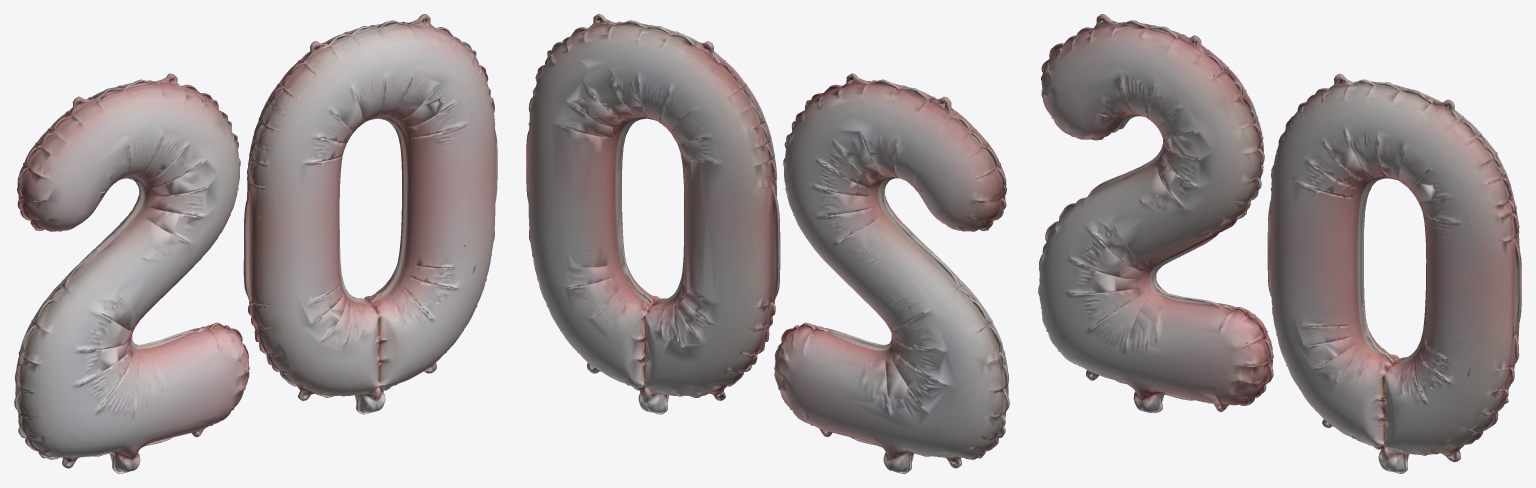
File: num20.glb
3 views of the same model, side by side, from view 1: azimuth 30°, elevation 25°; view 2: azimuth 150°, elevation 25°; view 3: azimuth 330°, elevation 25° (orthographic).
Visible parts, largest first — view 1: node_0; view 2: node_0; view 3: node_0.
Boxes of the visible parts, x1,y1,x2,y2 form: node_0: (14, 14, 497, 473); node_0: (526, 14, 1009, 473); node_0: (1038, 14, 1521, 473).
Size of the model in its own units: 1.08 by 0.8318 by 0.1306.
1 material, 1 textured.
